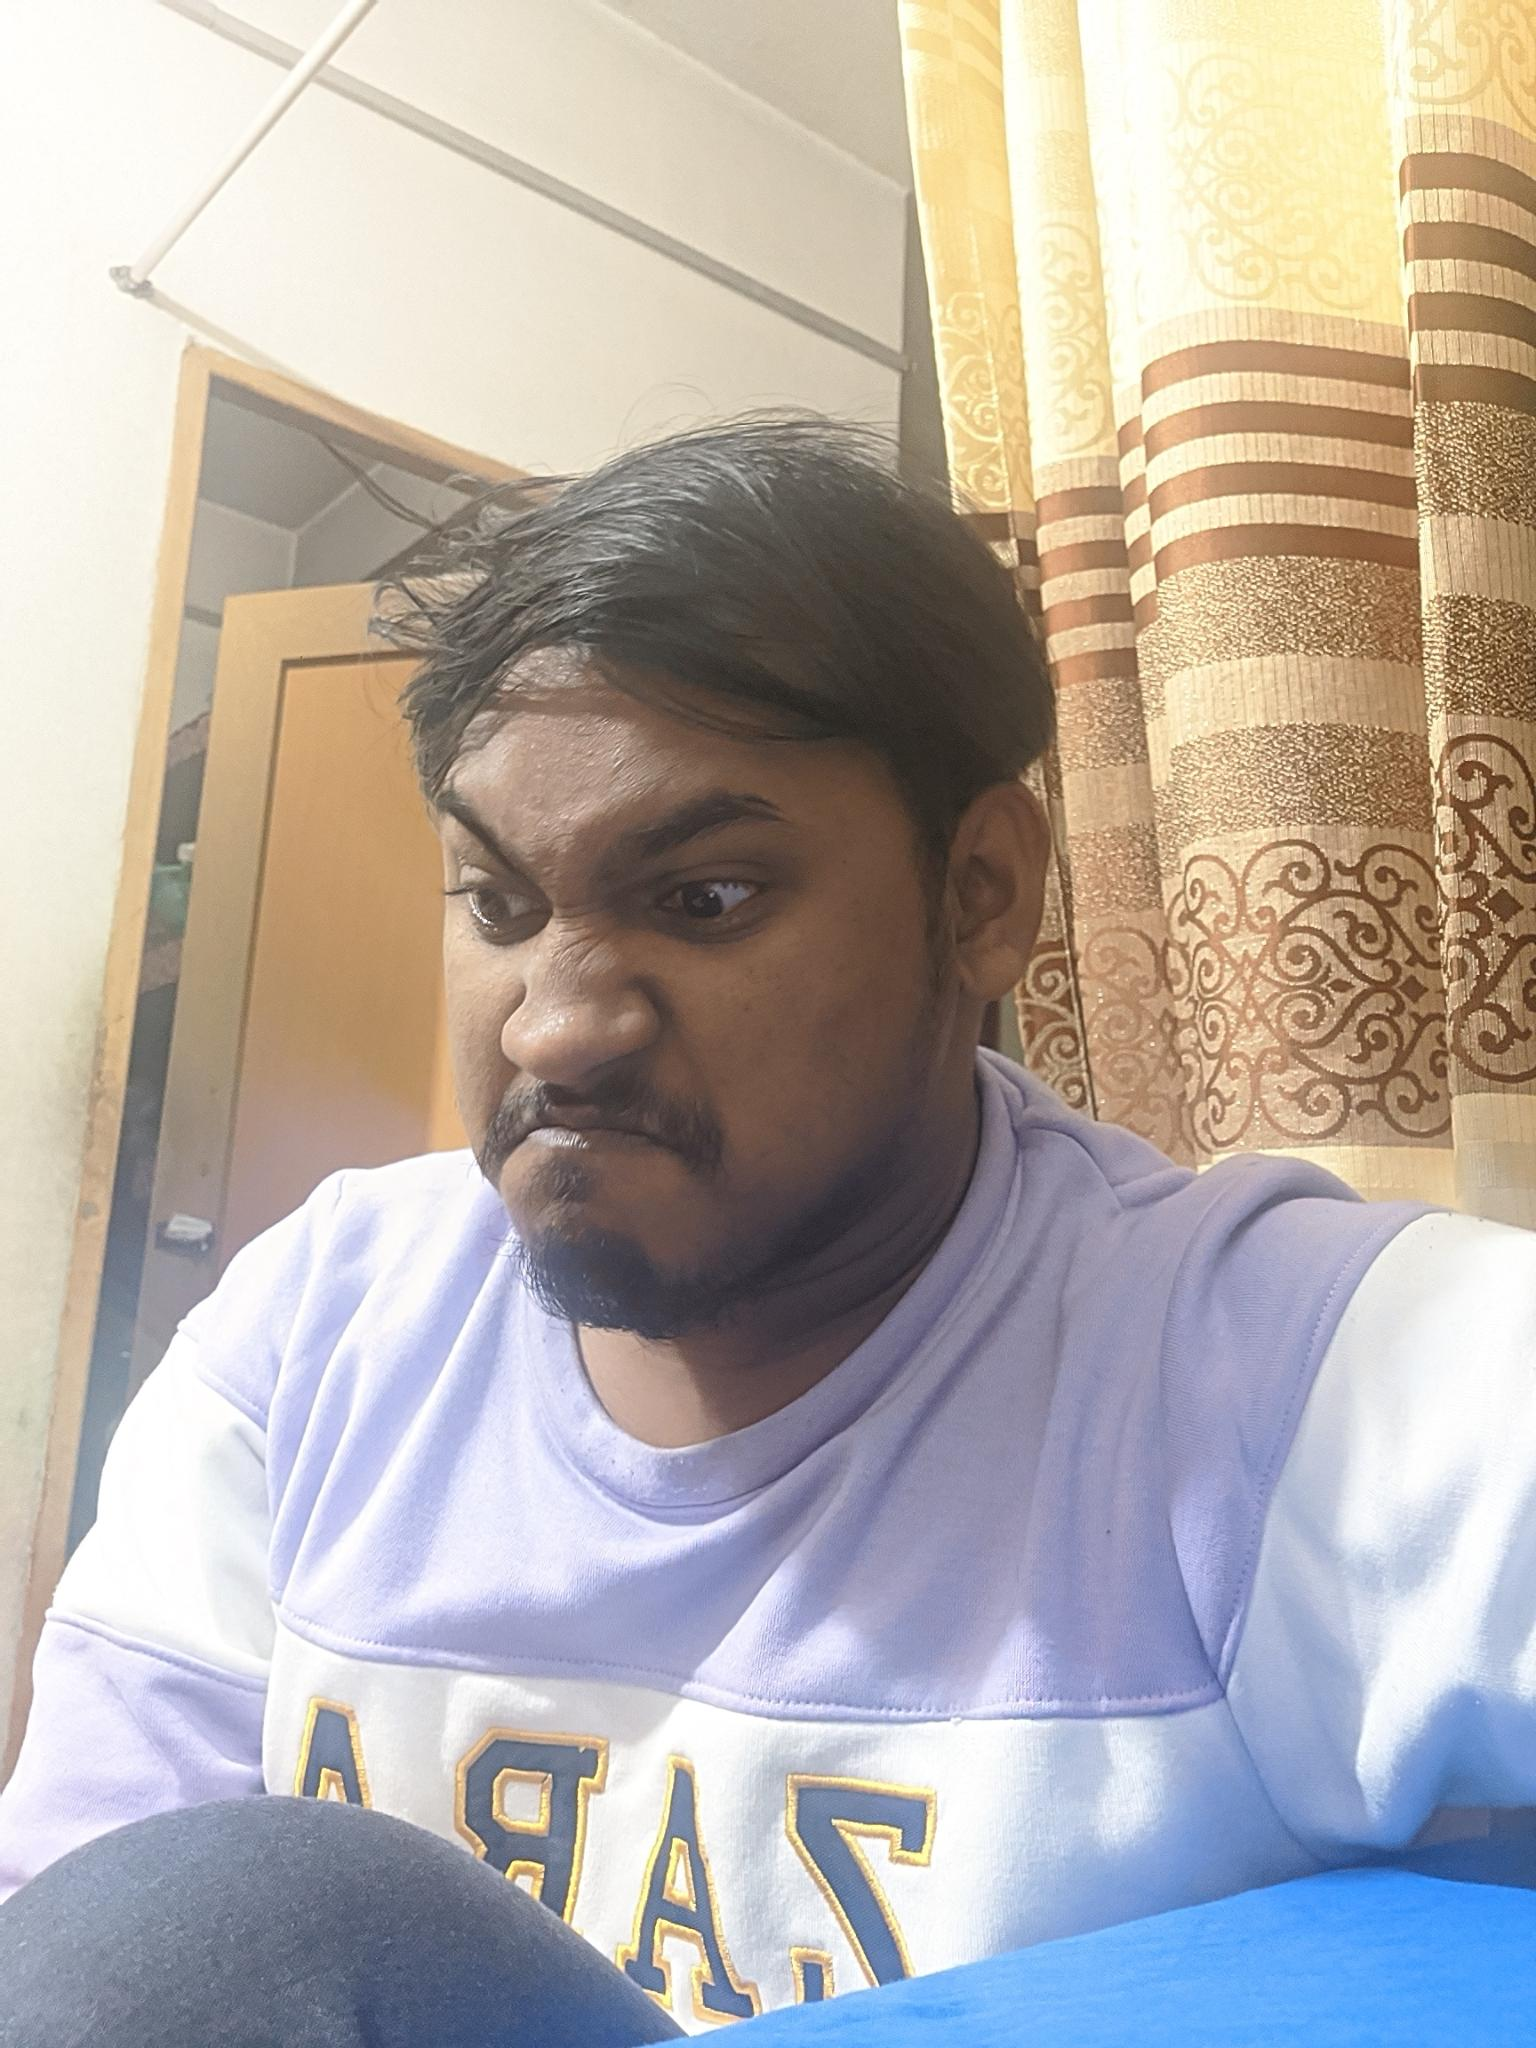Angry: (376, 714, 887, 1317)
